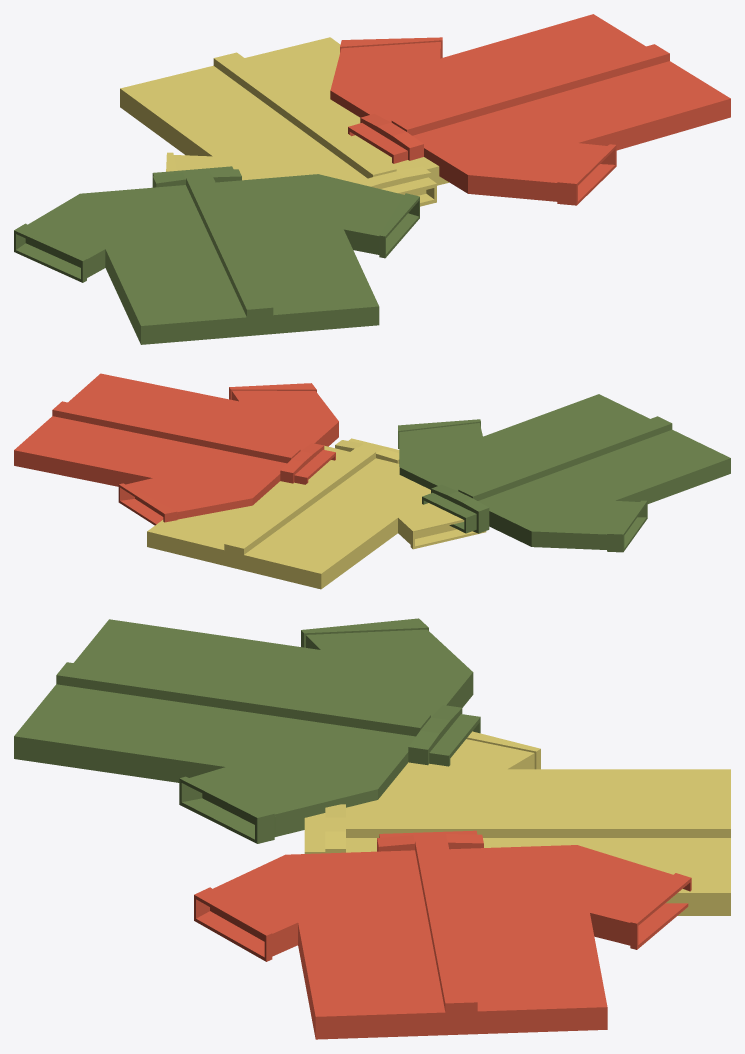
Rendered from Cloth_1.fbx.
The picture shows the model from 3 angles, top to bottom: view 1: azimuth 30°, elevation 25°; view 2: azimuth 150°, elevation 25°; view 3: azimuth 270°, elevation 25°; orthographic projection. The views are drawn at different scales.
Visible parts, largest first — view 1: Cube.025, Cube.024, Cube.018; view 2: Cube.025, Cube.024, Cube.018; view 3: Cube.024, Cube.025, Cube.018.
Boxes of the visible parts, x1,y1,x2,y2 form: Cube.025: [14, 166, 419, 344]; Cube.024: [330, 14, 730, 205]; Cube.018: [120, 37, 449, 206]; Cube.025: [398, 394, 730, 552]; Cube.024: [14, 373, 338, 525]; Cube.018: [147, 438, 486, 589]; Cube.024: [194, 830, 691, 1039]; Cube.025: [14, 618, 480, 843]; Cube.018: [304, 731, 730, 915].
Size of the model in its own units: 250 by 14.43 by 191.
